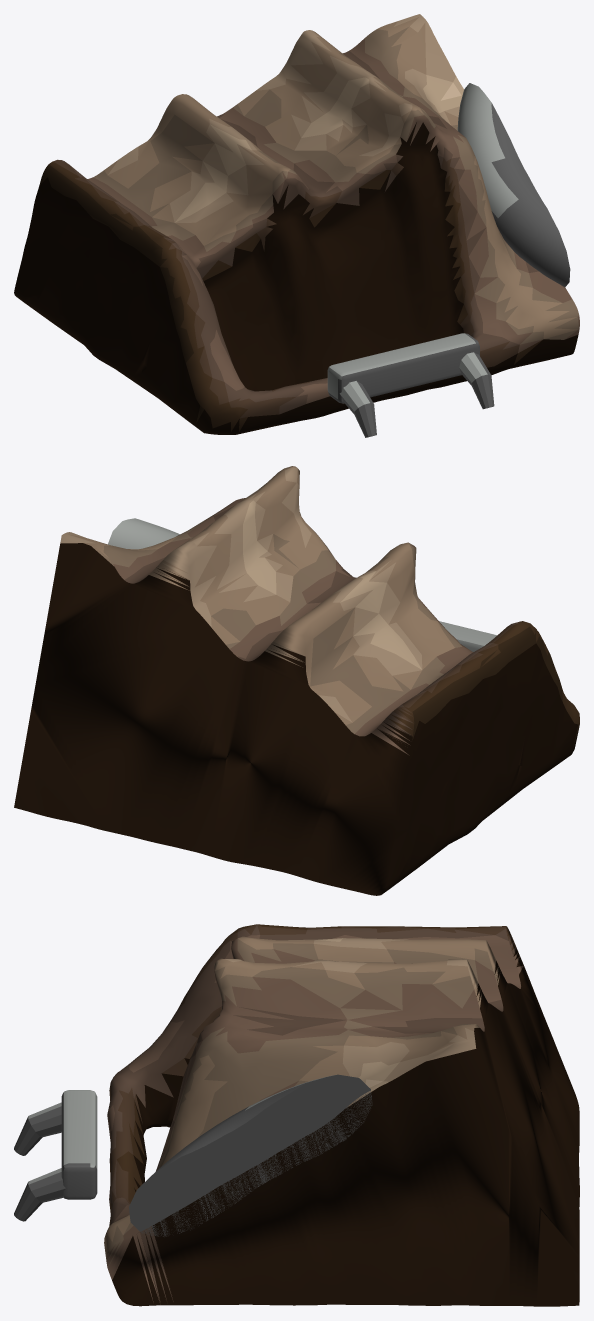
Rendered from drill_rig_bl.glb.
3 views of the same model, one above another, from view 1: azimuth 30°, elevation 25°; view 2: azimuth 150°, elevation 25°; view 3: azimuth 270°, elevation 25° (orthographic). The views are drawn at different scales.
Visible parts, largest first — view 1: drill_rig_bl; view 2: drill_rig_bl; view 3: drill_rig_bl.
Part boxes in pixels (x1,y1,x2,y2): drill_rig_bl: (14,14,579,437); drill_rig_bl: (14,466,579,895); drill_rig_bl: (14,924,579,1306).
Bounding box in the file's own units: 24.08 × 15.77 × 28.46.
